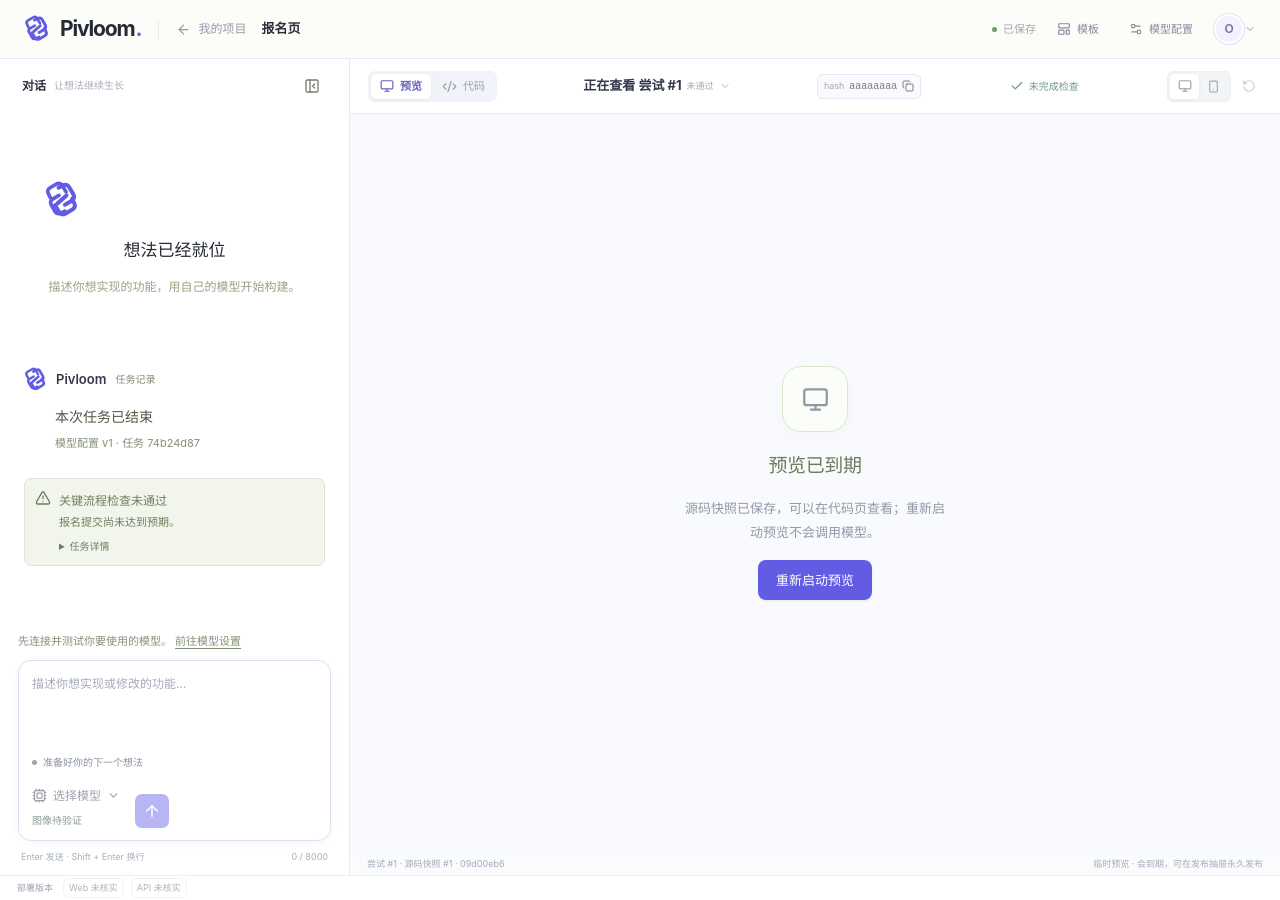
Test case: shows all five server-derived groups and their six actual child results without turning one failure into 5/5
Click the button with class "a-toolbar-check": coordinates (1044, 86) [1004,74,1085,98]
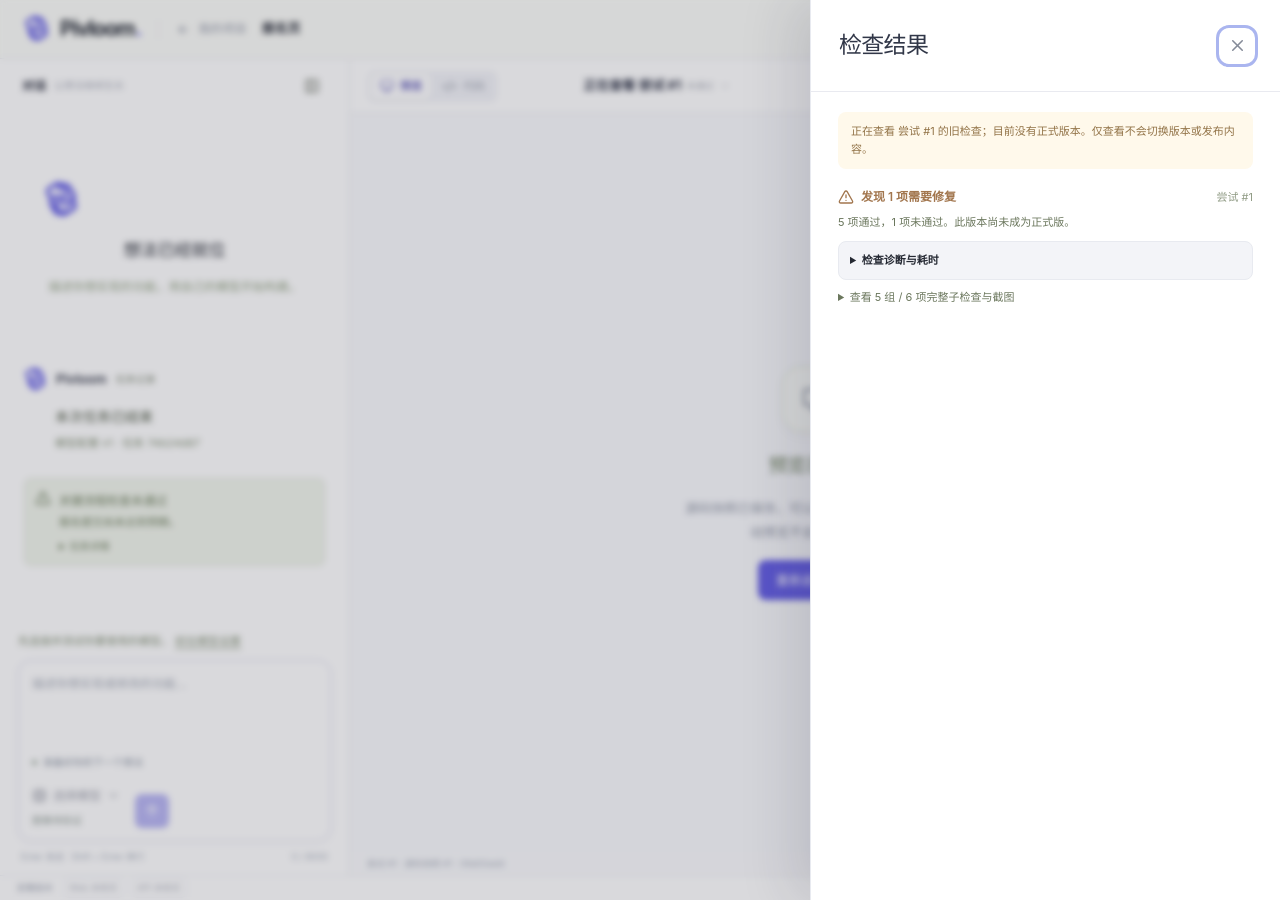
Result: the element named "版本检查结果" shows "发现 1 项需要修复" at [861,189,956,204]
Result: the element named "版本检查结果" shows "6 项完整子检查" at [850,290,1014,304]
